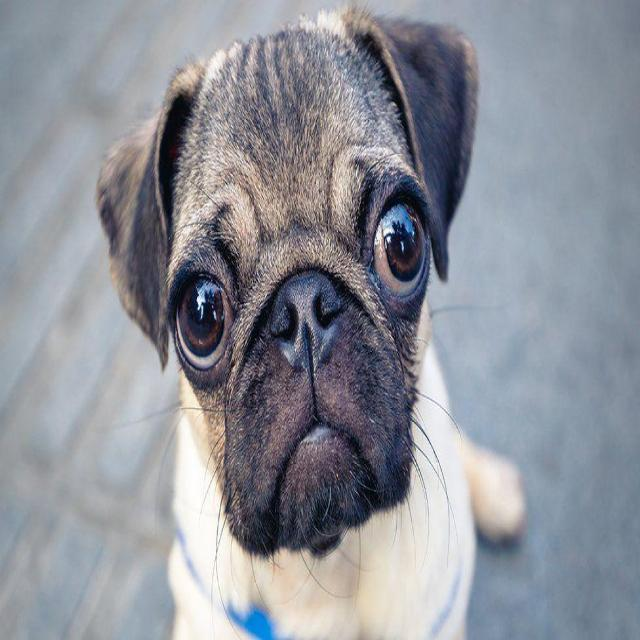Dog: (90, 5, 488, 571)
